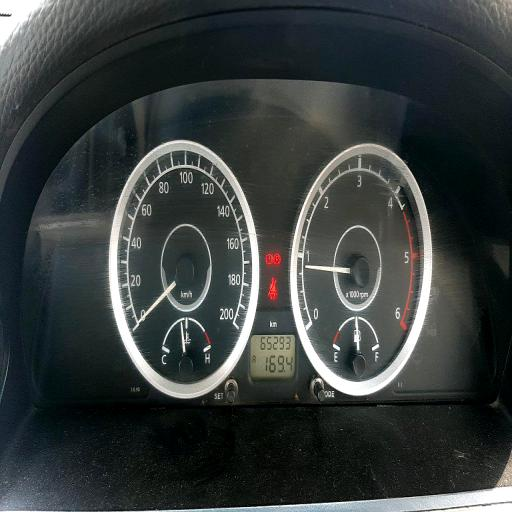belt: (268, 276, 278, 300)
brake_system_fault: (266, 254, 273, 265)
tachometer: (108, 142, 260, 398)
